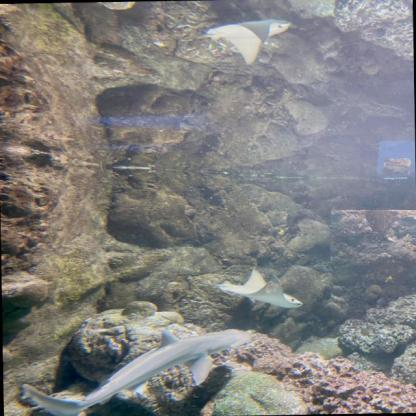shark: (21, 328, 252, 416)
stingray: (206, 18, 291, 65), (219, 268, 302, 314)
